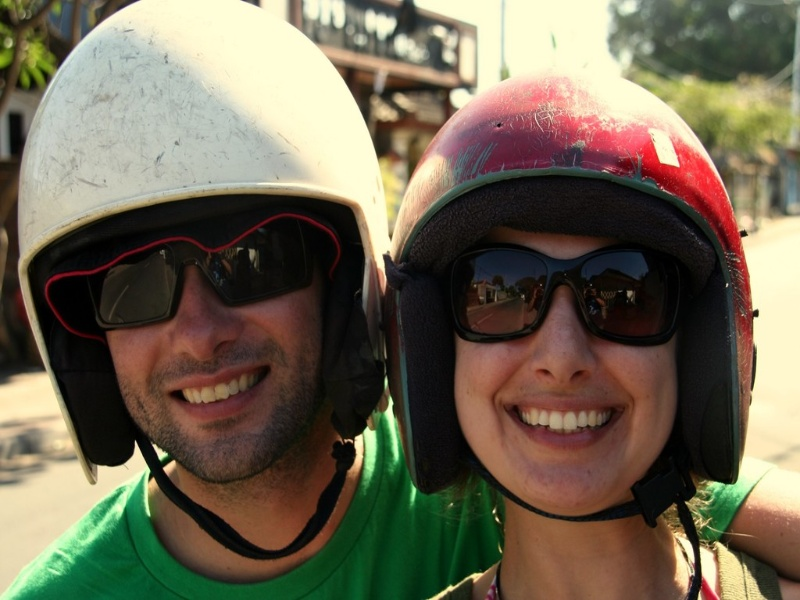Baret: (17, 1, 390, 258), (395, 67, 750, 259)
